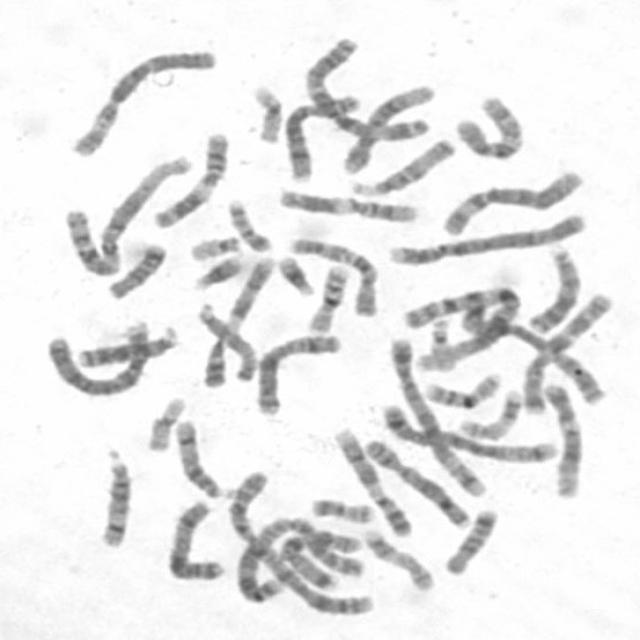A1: (56, 146, 193, 278), (405, 278, 524, 373)
A2: (221, 462, 373, 616), (226, 511, 370, 606)
A3: (454, 296, 611, 406), (296, 29, 432, 143)
B4: (380, 206, 590, 267), (37, 314, 153, 398)
B5: (382, 330, 491, 500), (376, 397, 560, 465)
C10: (280, 230, 381, 318), (446, 87, 526, 161)
C11: (144, 124, 232, 230), (268, 182, 422, 223)
C12: (334, 76, 438, 175), (537, 376, 586, 500)
C6: (61, 40, 220, 158), (434, 161, 588, 237)
C7: (515, 286, 617, 416), (274, 524, 364, 590)
C8: (356, 431, 474, 531), (276, 86, 364, 183)
C9: (193, 250, 279, 388), (326, 420, 416, 538)
D13: (520, 239, 584, 334), (69, 320, 182, 369)
D14: (167, 412, 229, 500), (90, 441, 134, 550)
D15: (344, 130, 459, 198), (189, 296, 259, 384)
E16: (300, 258, 353, 335), (416, 363, 504, 409)
E17: (356, 521, 438, 593), (450, 382, 526, 442)
E18: (436, 502, 501, 577), (99, 235, 169, 300)
F19: (138, 389, 188, 454), (244, 77, 285, 145)
F20: (219, 190, 274, 253), (304, 490, 378, 524)
G21: (185, 247, 247, 292), (270, 246, 317, 297)
G22: (415, 310, 456, 372), (182, 228, 244, 262)
X: (246, 326, 344, 418), (158, 493, 227, 582)
